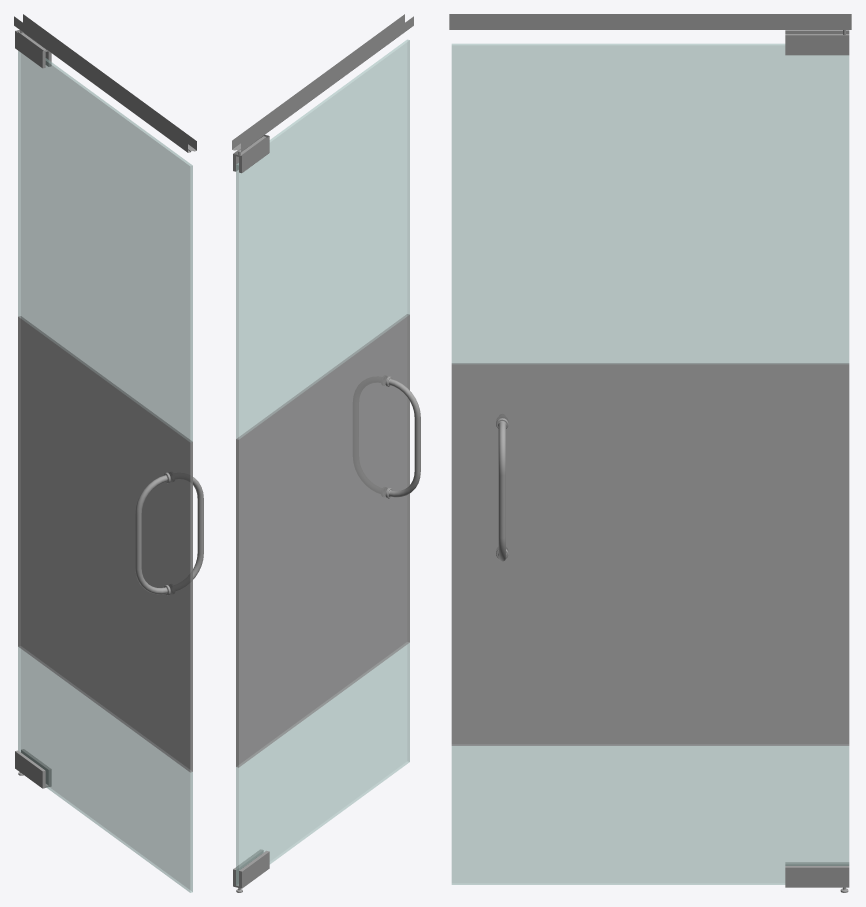
File: Glass_panel_door_geo.fbx
3 renders of one model, left to right at view 1: azimuth 30°, elevation 25°; view 2: azimuth 150°, elevation 25°; view 3: azimuth 270°, elevation 25°, orthographic. The views are drawn at different scales.
Visible parts, largest first — view 1: Glass_panel_door, Glass_panel_door_frame_top; view 2: Glass_panel_door, Glass_panel_door_frame_top; view 3: Glass_panel_door, Glass_panel_door_frame_top.
Boxes of the visible parts, bbox=[...] form: Glass_panel_door: bbox=[15, 30, 203, 892]; Glass_panel_door_frame_top: bbox=[14, 14, 196, 152]; Glass_panel_door: bbox=[233, 39, 420, 892]; Glass_panel_door_frame_top: bbox=[232, 14, 413, 151]; Glass_panel_door: bbox=[451, 30, 849, 892]; Glass_panel_door_frame_top: bbox=[449, 14, 851, 29].
Size of the model in its own units: 22.46 by 240 by 100.
